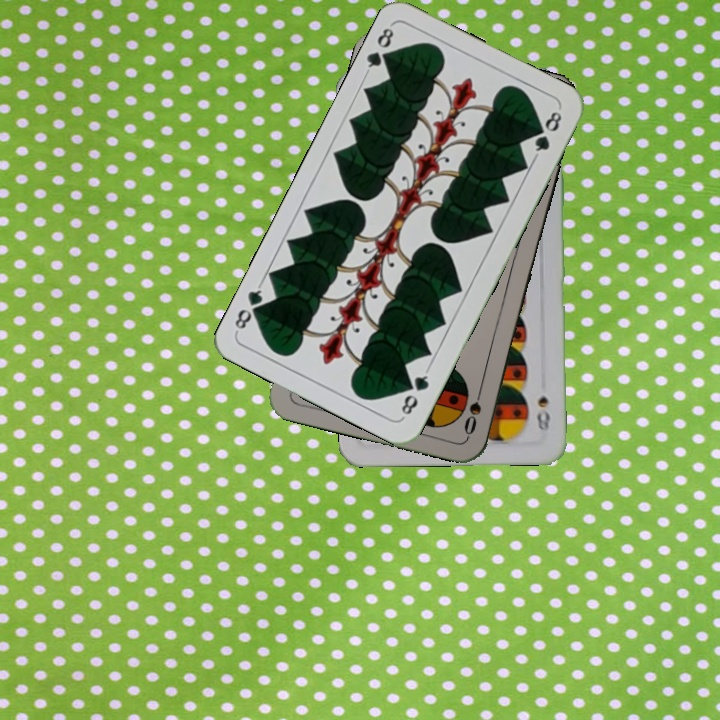G8: (361, 21, 398, 76), (397, 365, 432, 420)
S8: (532, 391, 552, 433)
SO: (460, 380, 486, 438)
